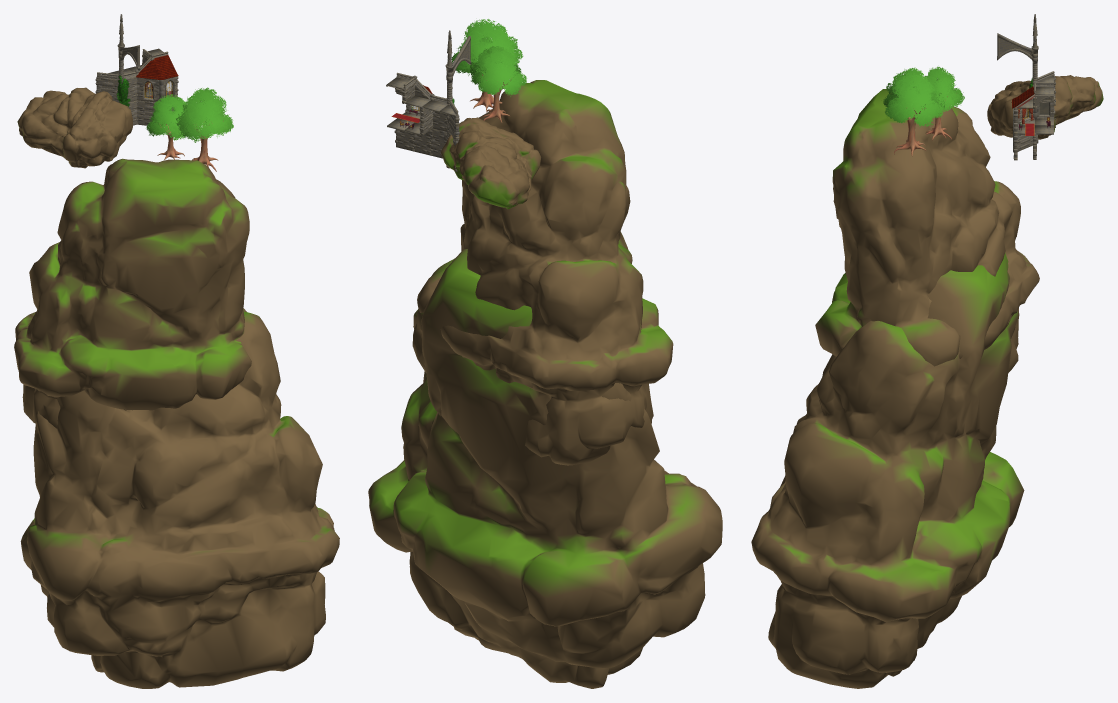
File: cell_x-2_z2_render.gltf
The picture shows the model from 3 angles, left to right: view 1: azimuth 30°, elevation 25°; view 2: azimuth 150°, elevation 25°; view 3: azimuth 270°, elevation 25°; orthographic projection. The views are drawn at different scales.
Visible parts, largest first — view 1: SM_ENV_cliff_castle_02_LOD0.027, SM_ENV_cliff_castle_02_LOD0.046, SM_ENV_cliff_castle_02_LOD0.022, SM_ENV_tree_castle_01_LOD0.046, SM_ENV_tree_castle_01_LOD0.037, SM_MOD_deco_flying_buttress_castle_LOD0.001, SM_MOD_wall_big_diagonal_window_castle_LOD0.024; view 2: SM_ENV_cliff_castle_02_LOD0.027, SM_ENV_cliff_castle_02_LOD0.046, SM_ENV_cliff_castle_02_LOD0.022, SM_ENV_tree_castle_01_LOD0.037, SM_ENV_tree_castle_01_LOD0.046, SM_MOD_deco_flying_buttress_castle_LOD0.001; view 3: SM_ENV_cliff_castle_02_LOD0.027, SM_ENV_cliff_castle_02_LOD0.046, SM_ENV_cliff_castle_02_LOD0.022, SM_ENV_tree_castle_01_LOD0.046, SM_ENV_tree_castle_01_LOD0.037, SM_MOD_deco_flying_buttress_castle_LOD0.001.
Part boxes in pixels (left/top/right/bottom): SM_ENV_cliff_castle_02_LOD0.027: left=20, top=312, right=339, bottom=688; SM_ENV_cliff_castle_02_LOD0.046: left=14, top=158, right=251, bottom=428; SM_ENV_cliff_castle_02_LOD0.022: left=17, top=87, right=132, bottom=168; SM_ENV_tree_castle_01_LOD0.046: left=176, top=87, right=233, bottom=171; SM_ENV_tree_castle_01_LOD0.037: left=146, top=94, right=186, bottom=159; SM_MOD_deco_flying_buttress_castle_LOD0.001: left=117, top=14, right=140, bottom=83; SM_MOD_wall_big_diagonal_window_castle_LOD0.024: left=137, top=77, right=159, bottom=102; SM_ENV_cliff_castle_02_LOD0.027: left=368, top=249, right=722, bottom=688; SM_ENV_cliff_castle_02_LOD0.046: left=417, top=80, right=673, bottom=465; SM_ENV_cliff_castle_02_LOD0.022: left=441, top=117, right=541, bottom=209; SM_ENV_tree_castle_01_LOD0.037: left=470, top=46, right=526, bottom=122; SM_ENV_tree_castle_01_LOD0.046: left=451, top=19, right=523, bottom=112; SM_MOD_deco_flying_buttress_castle_LOD0.001: left=445, top=30, right=471, bottom=104; SM_ENV_cliff_castle_02_LOD0.027: left=751, top=253, right=1024, bottom=688; SM_ENV_cliff_castle_02_LOD0.046: left=815, top=89, right=1039, bottom=372; SM_ENV_cliff_castle_02_LOD0.022: left=987, top=75, right=1103, bottom=139; SM_ENV_tree_castle_01_LOD0.046: left=883, top=67, right=944, bottom=156; SM_ENV_tree_castle_01_LOD0.037: left=921, top=66, right=964, bottom=140; SM_MOD_deco_flying_buttress_castle_LOD0.001: left=997, top=14, right=1038, bottom=84.
Bounding box in the file's own units: 74.42 × 149 × 73.79.
16 materials, 15 textured.
